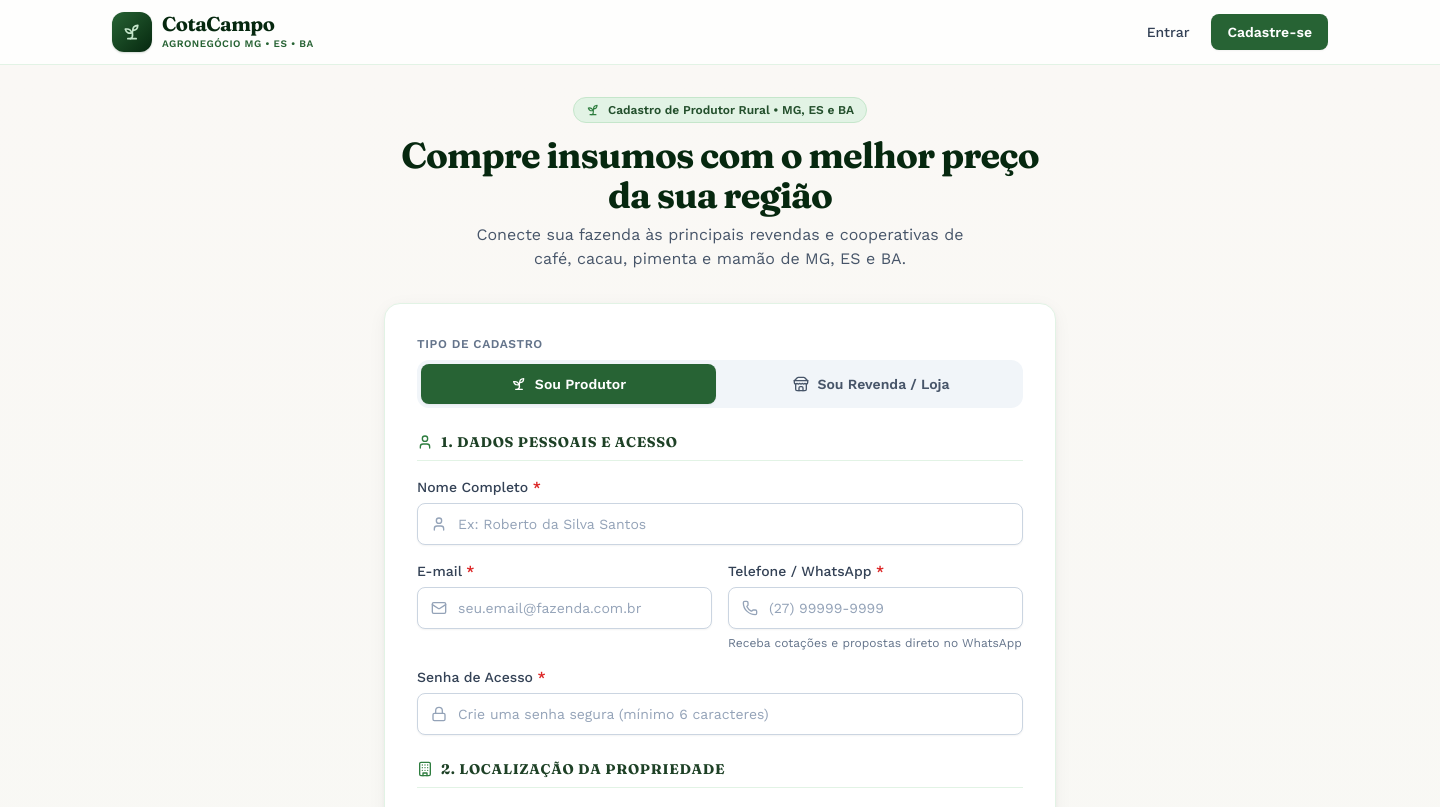
Test: US02 – Cadastro da Revenda de Insumos › deve alternar para o formulário de Revenda PJ ao selecionar "Sou Revenda / Loja"
What coordinates should you click on to do the following:
click the button "Sou Revenda / Loja"
I would click on:
 (872, 384)
Its box is [724,364,1019,404].
(page scrolled)
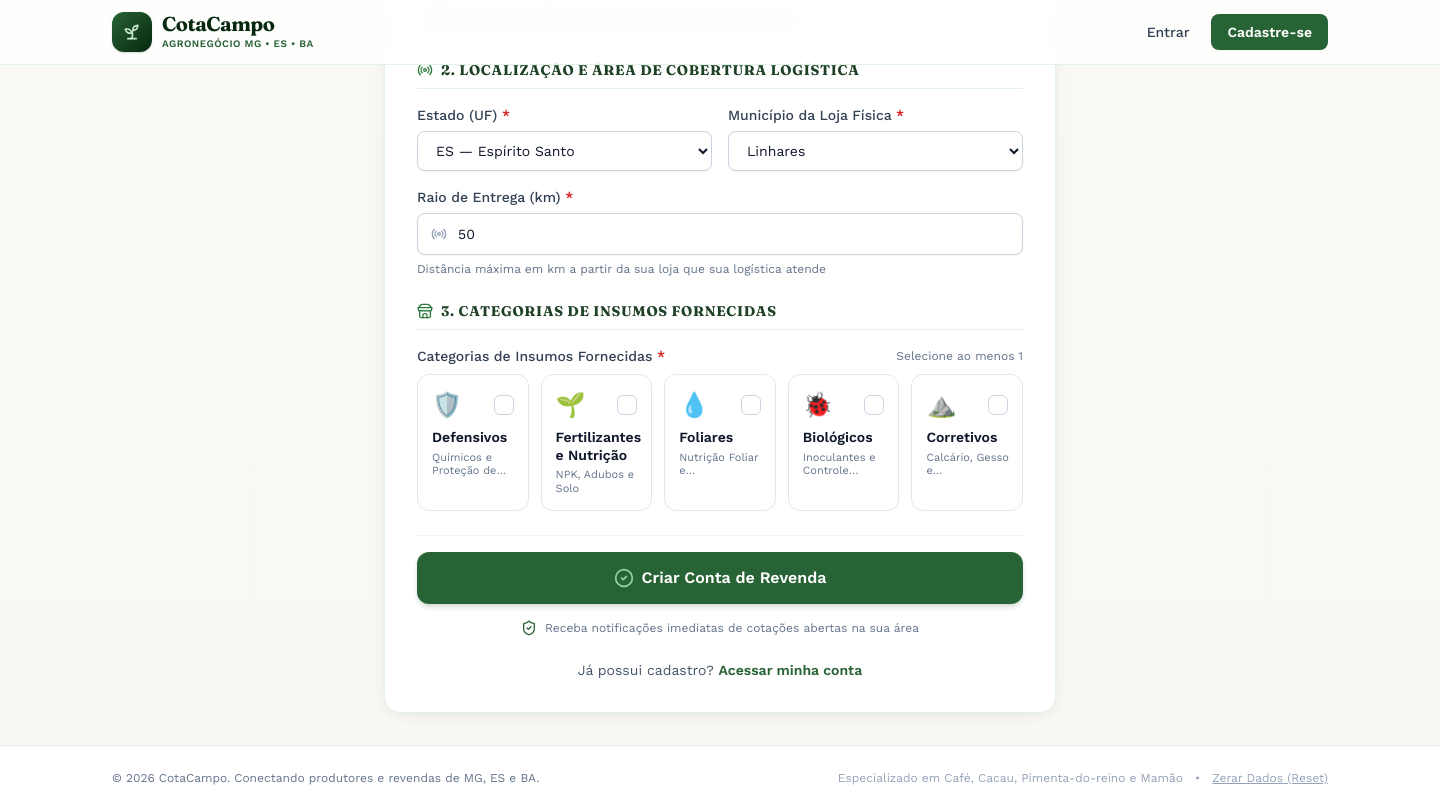
expect the number field labelled "Raio de Entrega (km) *" is shown: met, box [417,213,1023,255]
expect the button "Criar Conta de Revenda" is shown: met, box [417,552,1023,604]
